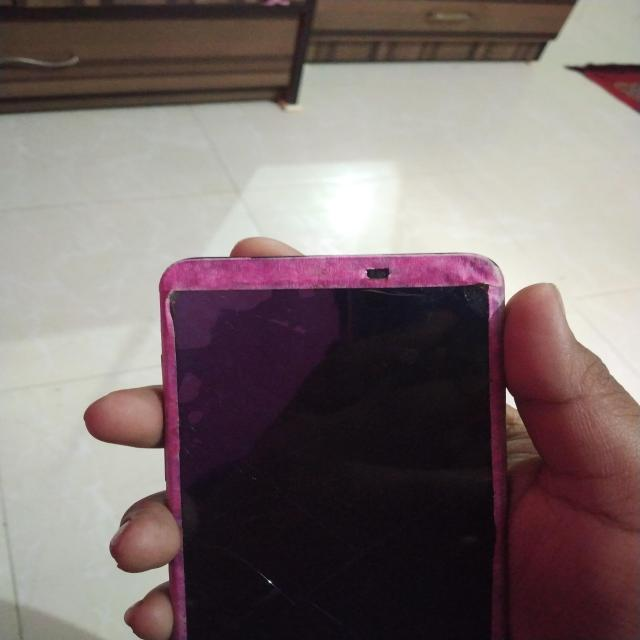mobile: (111, 170, 572, 632)
